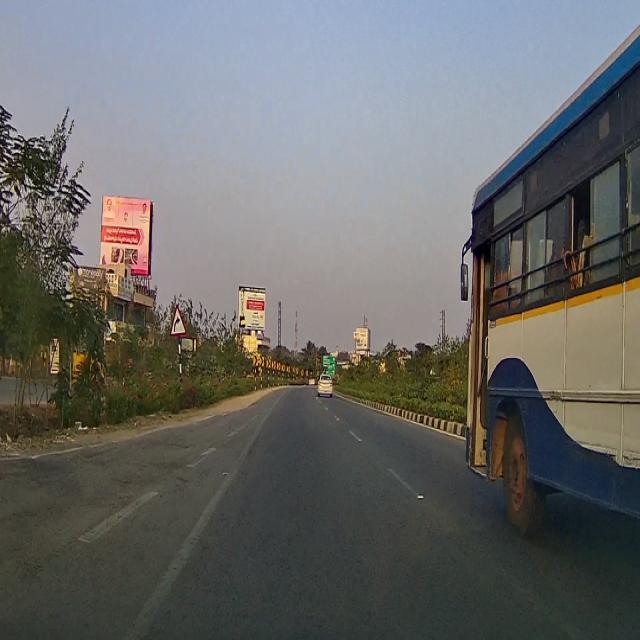right-hand-curve: (170, 301, 183, 335)
